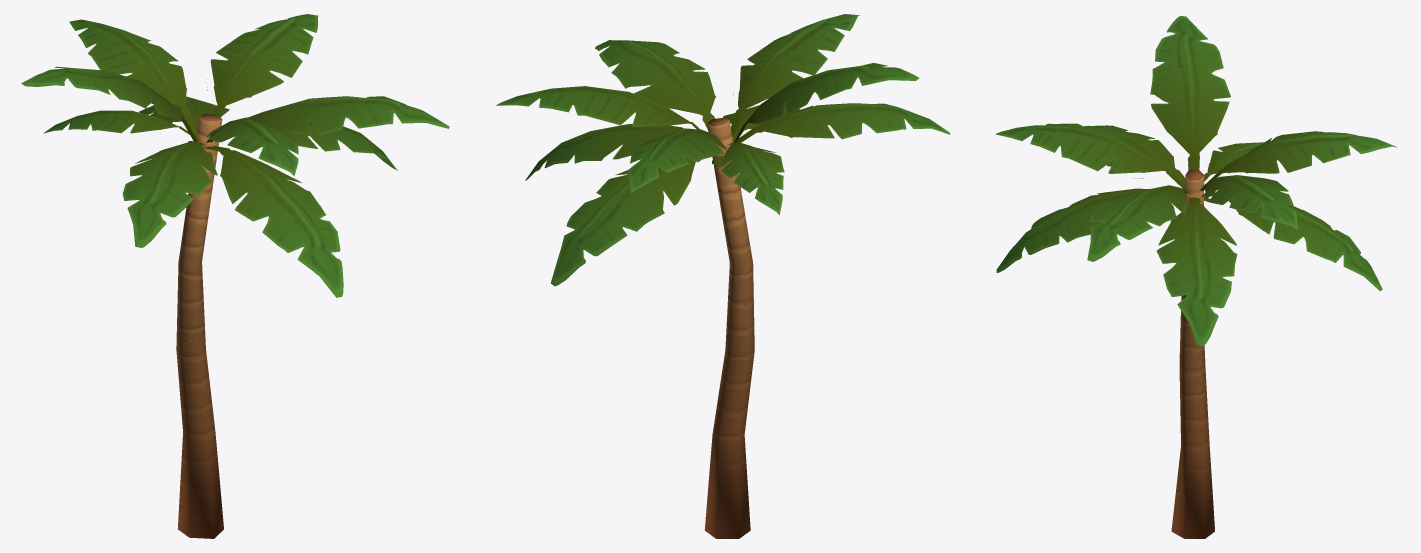
The model's file is palm_tree.glb.
3 views of the same model, side by side, from view 1: azimuth 30°, elevation 25°; view 2: azimuth 150°, elevation 25°; view 3: azimuth 270°, elevation 25° (orthographic). The views are drawn at different scales.
Visible parts, largest first — view 1: Palm Tree 1; view 2: Palm Tree 1; view 3: Palm Tree 1.
Boxes of the visible parts, bbox=[...] form: Palm Tree 1: bbox=[21, 14, 449, 538]; Palm Tree 1: bbox=[496, 14, 950, 538]; Palm Tree 1: bbox=[995, 16, 1396, 538].
Bounding box in the file's own units: 2.66 × 3.22 × 2.8.
Materials: 1 (1 with a texture image).
